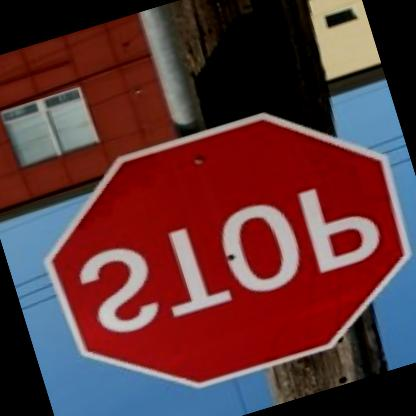stop: (17, 81, 415, 415)
